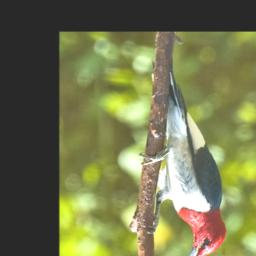Woodpecker: (140, 63, 227, 256)
